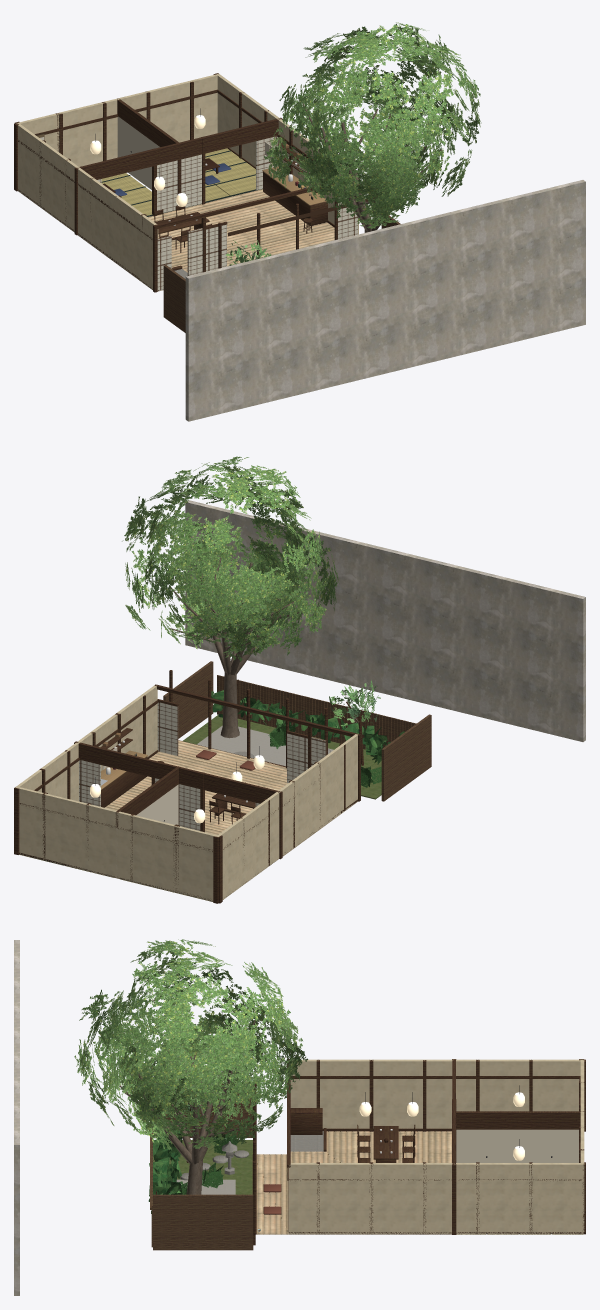
Rendered from wz_teahouse_interior.glb.
3 views of the same model, one above another, from view 1: azimuth 30°, elevation 25°; view 2: azimuth 150°, elevation 25°; view 3: azimuth 270°, elevation 25° (orthographic). The views are drawn at different scales.
Visible parts, largest first — view 1: wzs_neighbor, wzs_camphor_leaf, WALL_left_left_plaster, wzs_post, WALL_back_back_plaster, wzs_planks, WALL_right_right_plaster, wzs_tatami, WALL_engawa_engawa_shoji, wzs_shoji, WALL_engawa_engawa_post, WALL_back_back_post (+8 smaller); view 2: wzs_neighbor, wzs_camphor_leaf, WALL_back_back_plaster, WALL_left_left_plaster, wzs_fence, wzs_post, wzs_planks, WALL_right_right_plaster, WALL_engawa_engawa_post, WALL_engawa_engawa_shoji, wzs_camphor_bark, wzs_leaf (+9 smaller); view 3: wzs_camphor_leaf, WALL_right_right_plaster, WALL_left_left_plaster, wzs_fence, wzs_planks, wzs_post, wzs_fusuma, WALL_left_left_post, wzs_camphor_bark, wzs_neighbor, WALL_right_right_post, wzs_garden_moss (+6 smaller).
Boxes of the visible parts, bbox=[...] form: wzs_neighbor: bbox=[185, 180, 585, 421]; wzs_camphor_leaf: bbox=[263, 22, 481, 228]; WALL_left_left_plaster: bbox=[17, 123, 158, 290]; wzs_post: bbox=[79, 98, 327, 270]; WALL_back_back_plaster: bbox=[16, 74, 219, 166]; wzs_planks: bbox=[78, 189, 334, 291]; WALL_right_right_plaster: bbox=[217, 74, 358, 234]; wzs_tatami: bbox=[101, 148, 255, 215]; WALL_engawa_engawa_shoji: bbox=[157, 197, 357, 289]; wzs_shoji: bbox=[97, 136, 277, 212]; WALL_engawa_engawa_post: bbox=[153, 178, 375, 292]; WALL_back_back_post: bbox=[14, 81, 217, 191]; wzs_neighbor: bbox=[185, 500, 585, 741]; wzs_camphor_leaf: bbox=[122, 456, 339, 661]; WALL_back_back_plaster: bbox=[15, 786, 218, 901]; WALL_left_left_plaster: bbox=[217, 734, 357, 899]; wzs_fence: bbox=[163, 661, 431, 801]; wzs_post: bbox=[78, 679, 363, 900]; wzs_planks: bbox=[105, 740, 357, 856]; WALL_right_right_plaster: bbox=[16, 685, 157, 801]; WALL_engawa_engawa_post: bbox=[154, 670, 360, 801]; WALL_engawa_engawa_shoji: bbox=[157, 702, 326, 782]; wzs_camphor_bark: bbox=[170, 557, 306, 738]; wzs_leaf: bbox=[211, 690, 404, 754]; wzs_camphor_leaf: bbox=[74, 939, 307, 1150]; WALL_right_right_plaster: bbox=[288, 1163, 584, 1234]; WALL_left_left_plaster: bbox=[290, 1059, 580, 1128]; wzs_fence: bbox=[150, 1084, 253, 1250]; wzs_planks: bbox=[256, 1131, 451, 1234]; wzs_post: bbox=[156, 1060, 583, 1245]; wzs_fusuma: bbox=[456, 1129, 578, 1162]; WALL_left_left_post: bbox=[290, 1059, 585, 1131]; wzs_camphor_bark: bbox=[119, 1020, 255, 1194]; wzs_neighbor: bbox=[14, 940, 19, 1295]; WALL_right_right_post: bbox=[289, 1162, 585, 1234]; wzs_garden_moss: bbox=[153, 1140, 252, 1194].
Bounding box in the file's own units: 16.4 × 10.76 × 19.36.
Materials: 35 (18 with a texture image).
